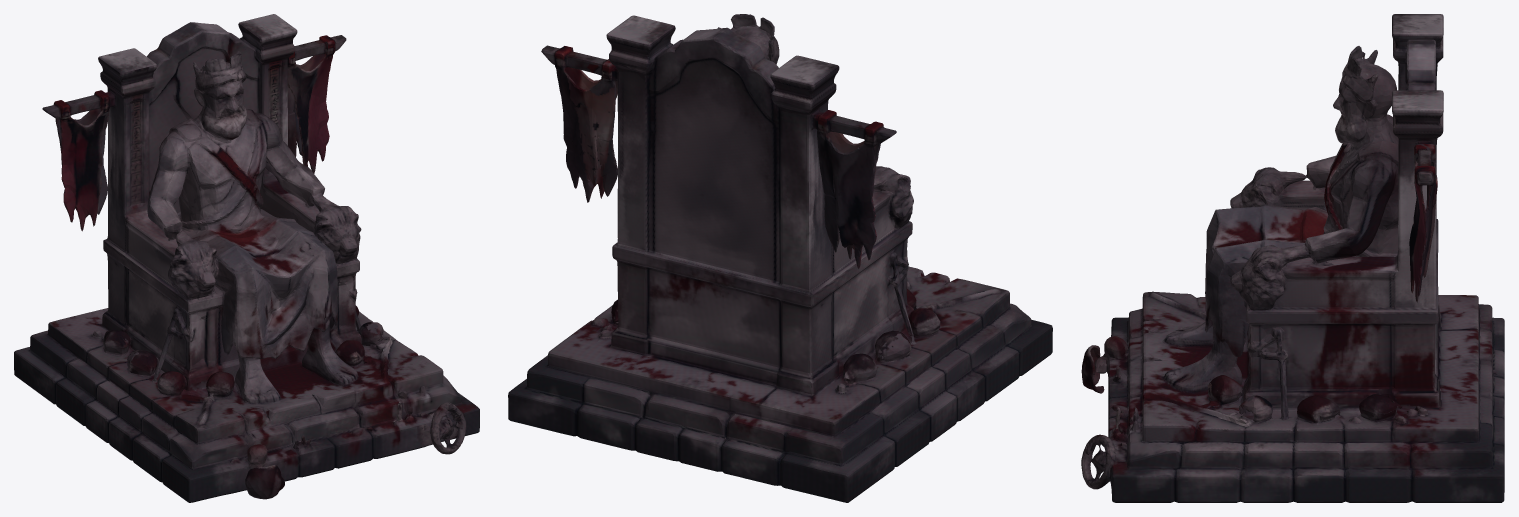
File: statusMagistrale_LOD0.glb
3 renders of one model, left to right at view 1: azimuth 30°, elevation 25°; view 2: azimuth 150°, elevation 25°; view 3: azimuth 270°, elevation 25°, orthographic. The views are drawn at different scales.
Visible parts, largest first — view 1: world; view 2: world; view 3: world.
Part boxes in pixels (left/top/right/bottom): world: left=14, top=14, right=479, bottom=502; world: left=508, top=14, right=1052, bottom=502; world: left=1081, top=14, right=1504, bottom=502.
Bounding box in the file's own units: 0.9103 × 1 × 0.9985.
Materials: 1 (1 with a texture image).
